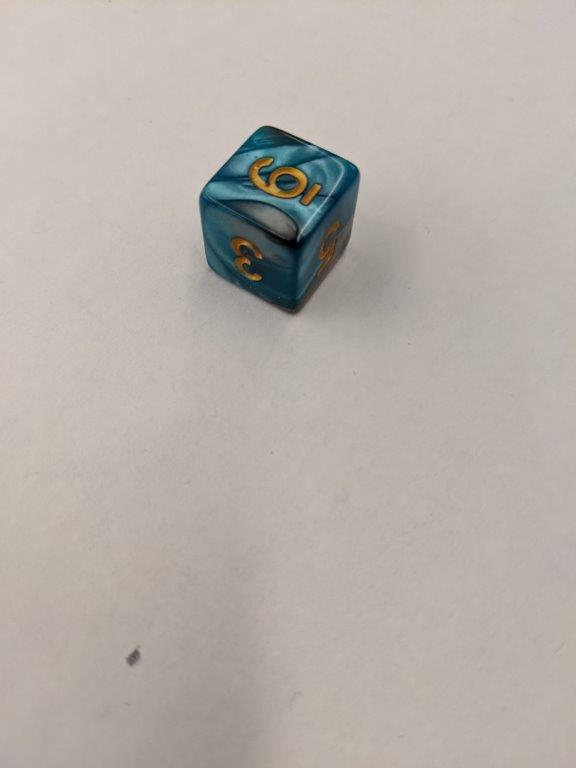d6-6: (201, 126, 363, 308)
